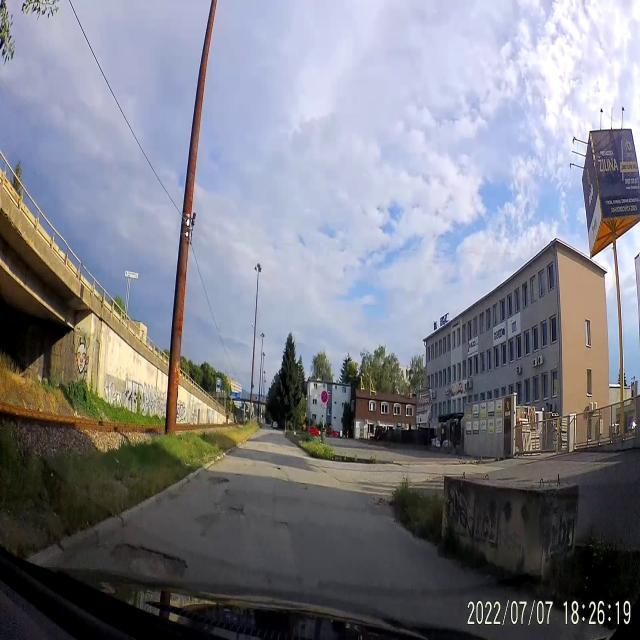Pothole: (109, 536, 189, 588), (225, 500, 254, 525), (204, 468, 234, 492), (268, 515, 292, 535), (374, 494, 390, 510), (270, 466, 282, 472)
